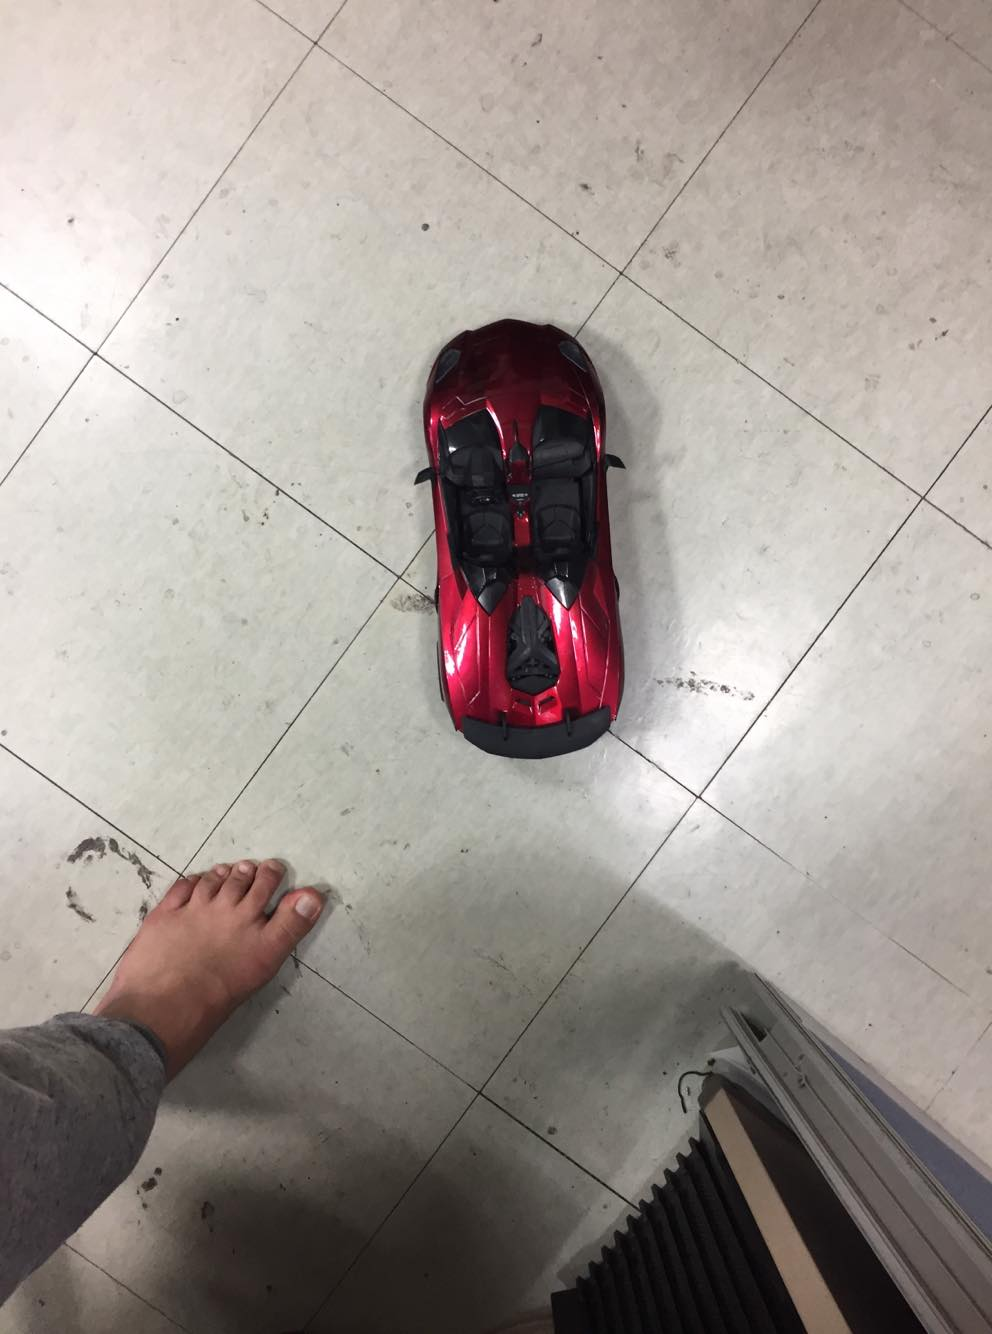car: (390, 301, 651, 758)
